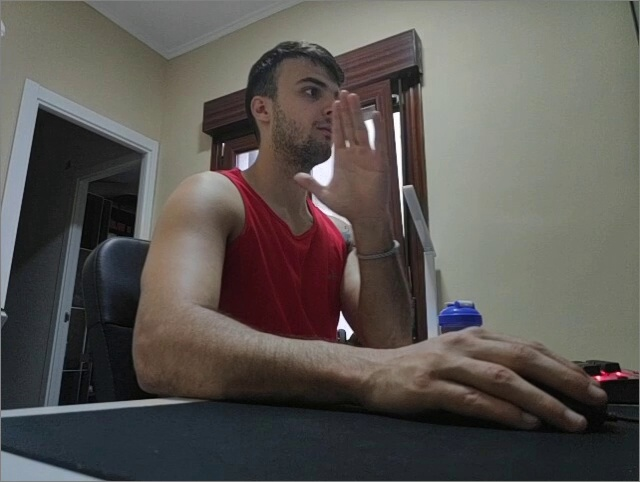Palm: (294, 89, 382, 219)
